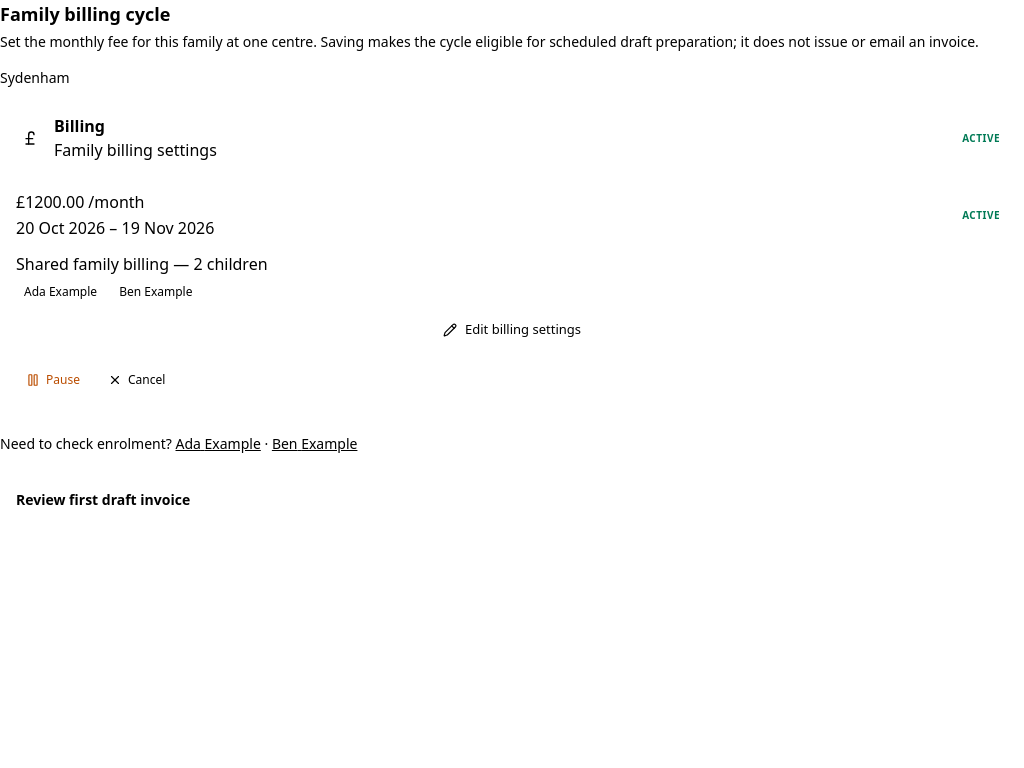
direct family billing entry › opens the existing draft review modal only on request and creates no draft merely by opening it
Expected: the text "Generate Draft Invoice" is not shown
Click the button "Review first draft invoice": (103, 500) [0, 478, 206, 522]
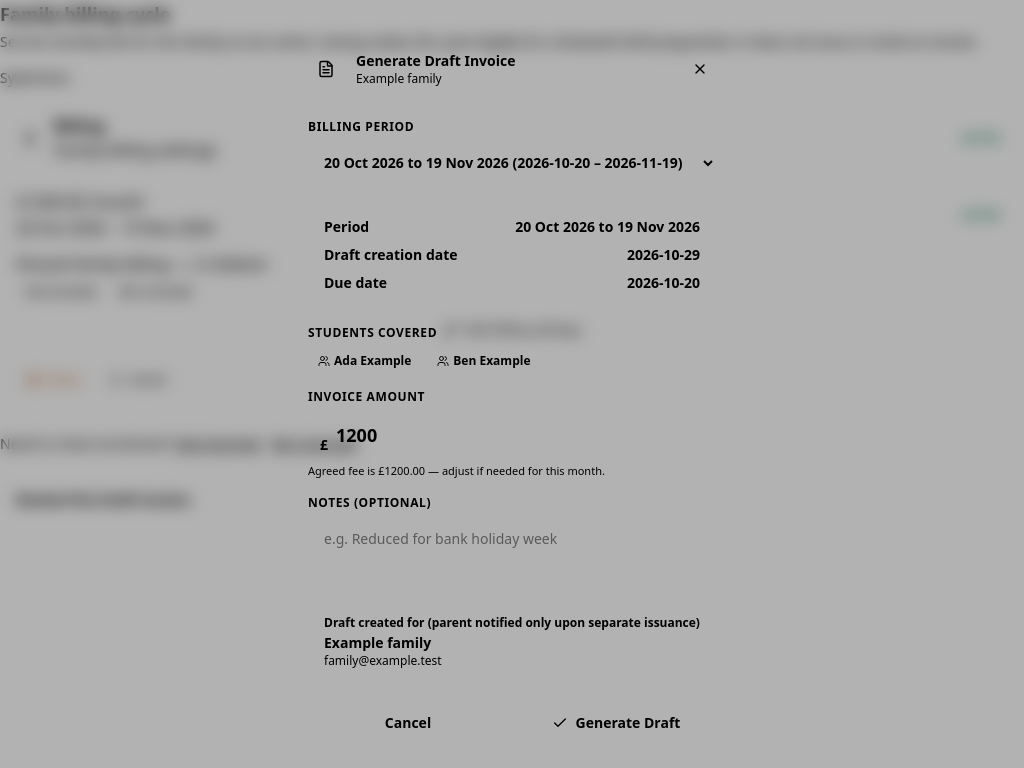
Result: the text "Generate Draft Invoice" is shown at [356, 51, 516, 71]
Result: the button "Generate Draft" is shown at [516, 701, 716, 737]
